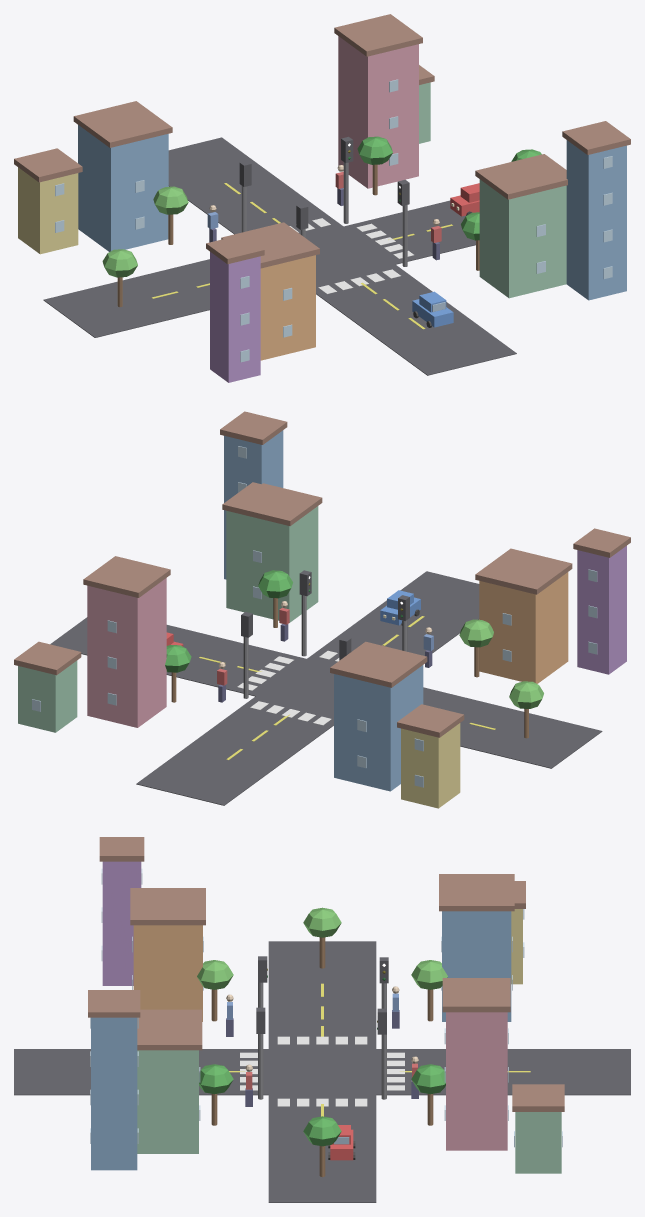
Rendered from MiniCity_Complete.fbx.
3 views of the same model, one above another, from view 1: azimuth 30°, elevation 25°; view 2: azimuth 150°, elevation 25°; view 3: azimuth 270°, elevation 25° (orthographic). The views are drawn at different scales.
Parts seen in each view (by area): view 1: Road_NS, Road_EW, BNE1_Body, BNW1_Body, BSE2_Body, BSE1_Body, BSW2_Body, BSW1_Body, BNW2_Body, BNW1_Roof, BSE1_Roof, BNE1_Roof (+9 smaller); view 2: Road_NS, Road_EW, BNE1_Body, BSW1_Body, BNW1_Body, BSE1_Body, BSW2_Body, BNW2_Body, BNE2_Body, BSE2_Body, BNW1_Roof, BSW1_Roof (+10 smaller); view 3: Road_EW, Road_NS, BNE1_Body, BSE2_Body, BSE1_Body, BSW1_Body, BNW1_Body, BSW2_Body, BNE2_Body, BNW1_Roof, BSW1_Roof, BSE1_Roof (+11 smaller).
Boxes of the visible parts, x1,y1,x2,y2 form: Road_NS: [168, 137, 516, 375]; Road_EW: [43, 200, 475, 337]; BNE1_Body: [338, 36, 418, 188]; BNW1_Body: [78, 125, 168, 251]; BSE2_Body: [566, 140, 626, 300]; BSE1_Body: [479, 179, 566, 298]; BSW2_Body: [210, 252, 260, 382]; BSW1_Body: [260, 255, 315, 360]; BNW2_Body: [18, 167, 78, 254]; BNW1_Roof: [73, 101, 172, 147]; BSE1_Roof: [475, 154, 567, 199]; BNE1_Roof: [334, 14, 422, 56]; Road_NS: [136, 571, 479, 805]; Road_EW: [50, 617, 602, 768]; BNE1_Body: [87, 578, 166, 727]; BSW1_Body: [479, 572, 568, 683]; BNW1_Body: [334, 665, 423, 791]; BSE1_Body: [226, 506, 318, 622]; BSW2_Body: [577, 546, 626, 674]; BNW2_Body: [401, 723, 460, 808]; BNE2_Body: [18, 660, 77, 732]; BSE2_Body: [224, 430, 283, 579]; BNW1_Roof: [330, 641, 427, 687]; BSW1_Roof: [475, 548, 572, 594]; Road_EW: [268, 941, 376, 1202]; Road_NS: [14, 1049, 630, 1095]; BNE1_Body: [446, 1012, 507, 1150]; BSE2_Body: [91, 1017, 137, 1170]; BSE1_Body: [137, 1050, 198, 1153]; BSW1_Body: [133, 925, 202, 1021]; BNW1_Body: [442, 911, 511, 1021]; BSW2_Body: [102, 861, 141, 985]; BNE2_Body: [515, 1112, 561, 1173]; BNW1_Roof: [439, 874, 514, 911]; BSW1_Roof: [130, 888, 205, 925]; BSE1_Roof: [137, 1009, 202, 1050].
Size of the model in its own units: 8 by 2.28 by 8.
